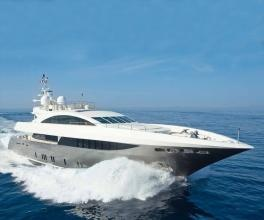yacht: (8, 66, 255, 182)
